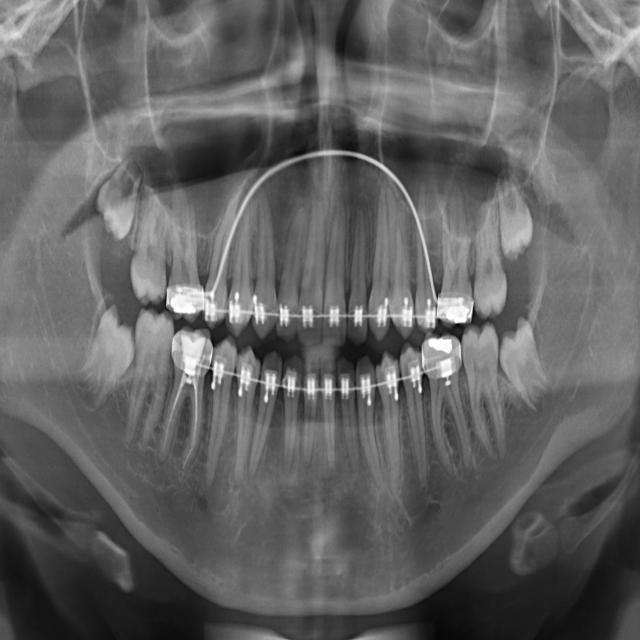AmalgamRestoration: (442, 290, 474, 330), (424, 331, 458, 362), (168, 290, 200, 320)
CompositeResinRestoration: (173, 321, 207, 379)
RootCanalTreatment: (158, 382, 206, 480)
